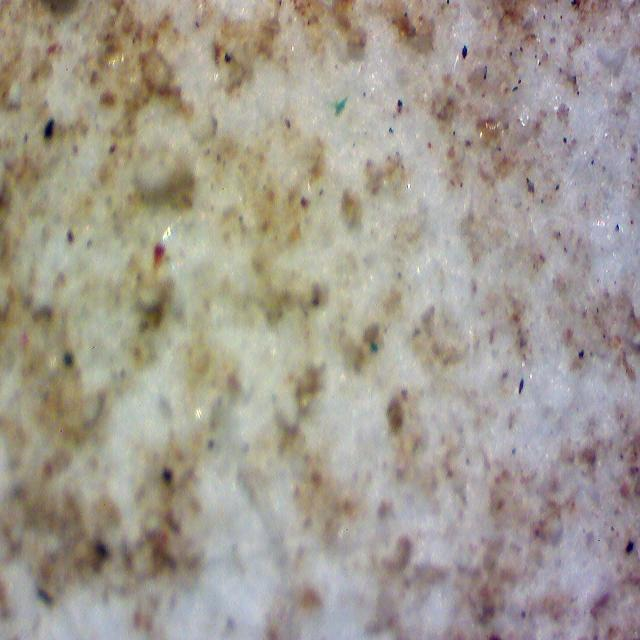microplastic: (147, 241, 165, 269), (331, 95, 351, 114)
